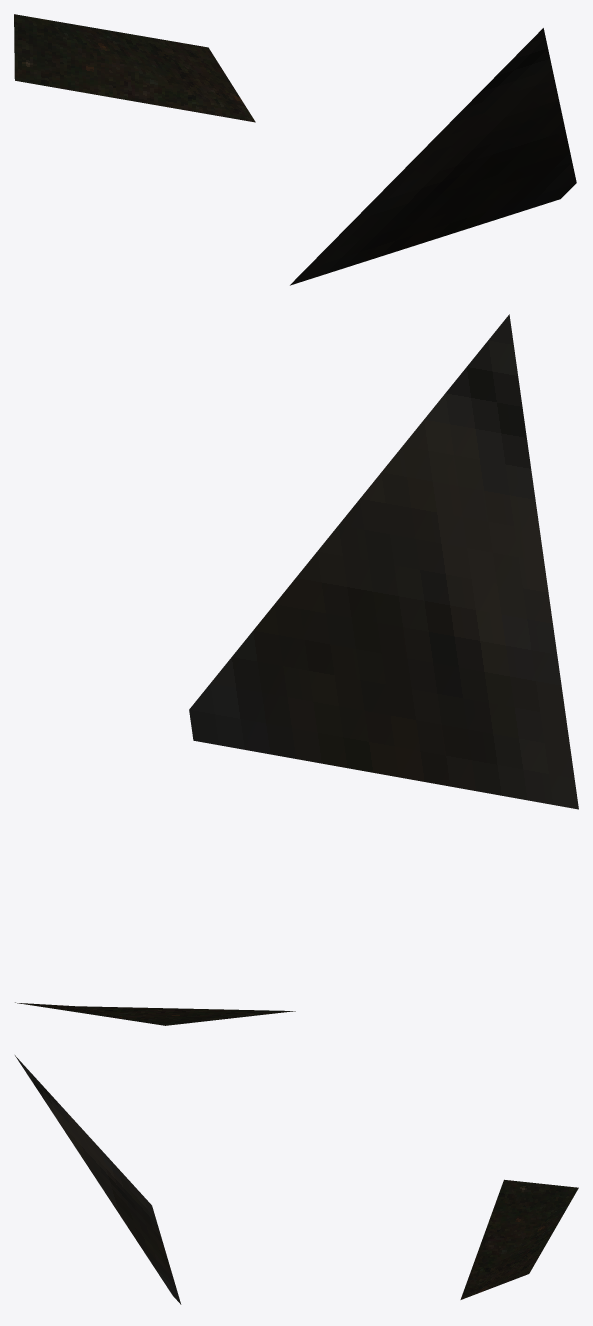
Rendered from cell_11_2.gltf.
The picture shows the model from 3 angles, top to bottom: view 1: azimuth 30°, elevation 25°; view 2: azimuth 150°, elevation 25°; view 3: azimuth 270°, elevation 25°; orthographic projection. The views are drawn at different scales.
Parts seen in each view (by area): view 1: cell_11_2; view 2: cell_11_2; view 3: cell_11_2.
Part boxes in pixels (bbox=[...]): cell_11_2: bbox=[14, 14, 576, 285]; cell_11_2: bbox=[15, 314, 578, 1025]; cell_11_2: bbox=[15, 1055, 578, 1304].
Bounding box in the file's own units: 147 × 141 × 308.
Materials: 2 (2 with a texture image).
